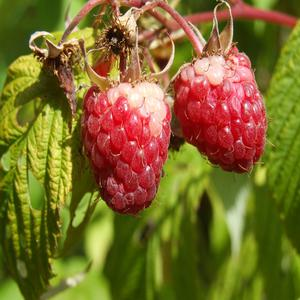raspb: (79, 44, 271, 215)
